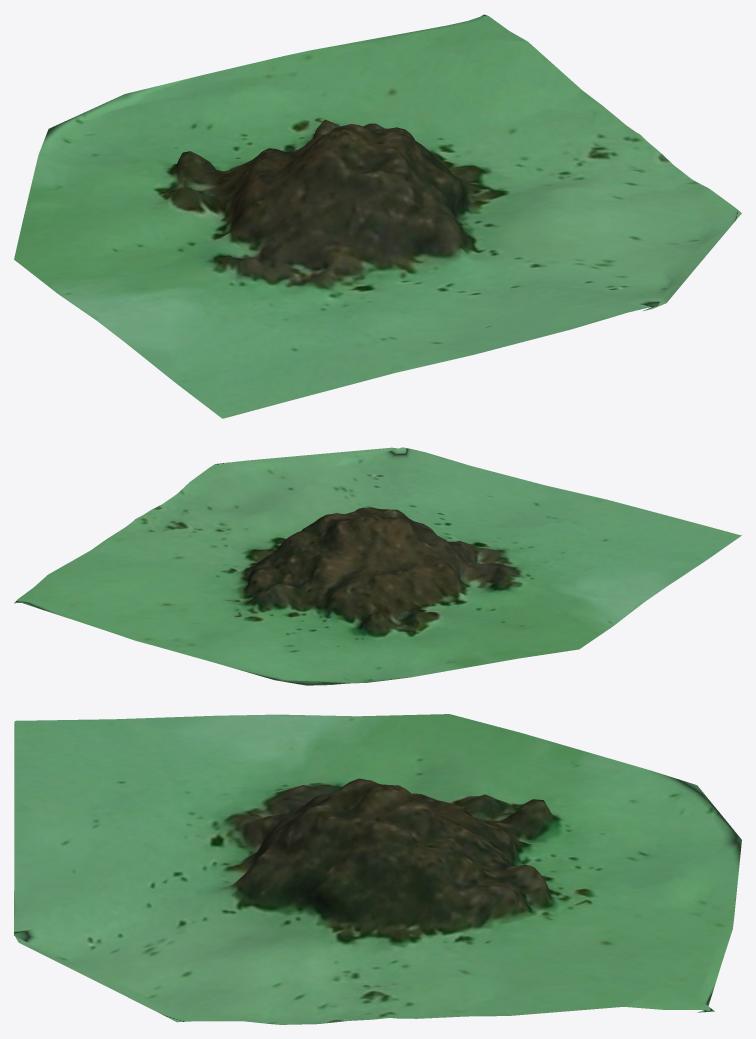
File: dirtpile_dirt_pile_02.fbx
The picture shows the model from 3 angles, top to bottom: view 1: azimuth 30°, elevation 25°; view 2: azimuth 150°, elevation 25°; view 3: azimuth 270°, elevation 25°; orthographic projection. The views are drawn at different scales.
Visible parts, largest first — view 1: dirt_pile_02; view 2: dirt_pile_02; view 3: dirt_pile_02.
Boxes of the visible parts, x1,y1,x2,y2 form: dirt_pile_02: (14,14,741,418); dirt_pile_02: (14,447,741,685); dirt_pile_02: (14,714,741,1024).
Size of the model in its own units: 0.2438 by 0.0335 by 0.2464.
1 material, 1 textured.
